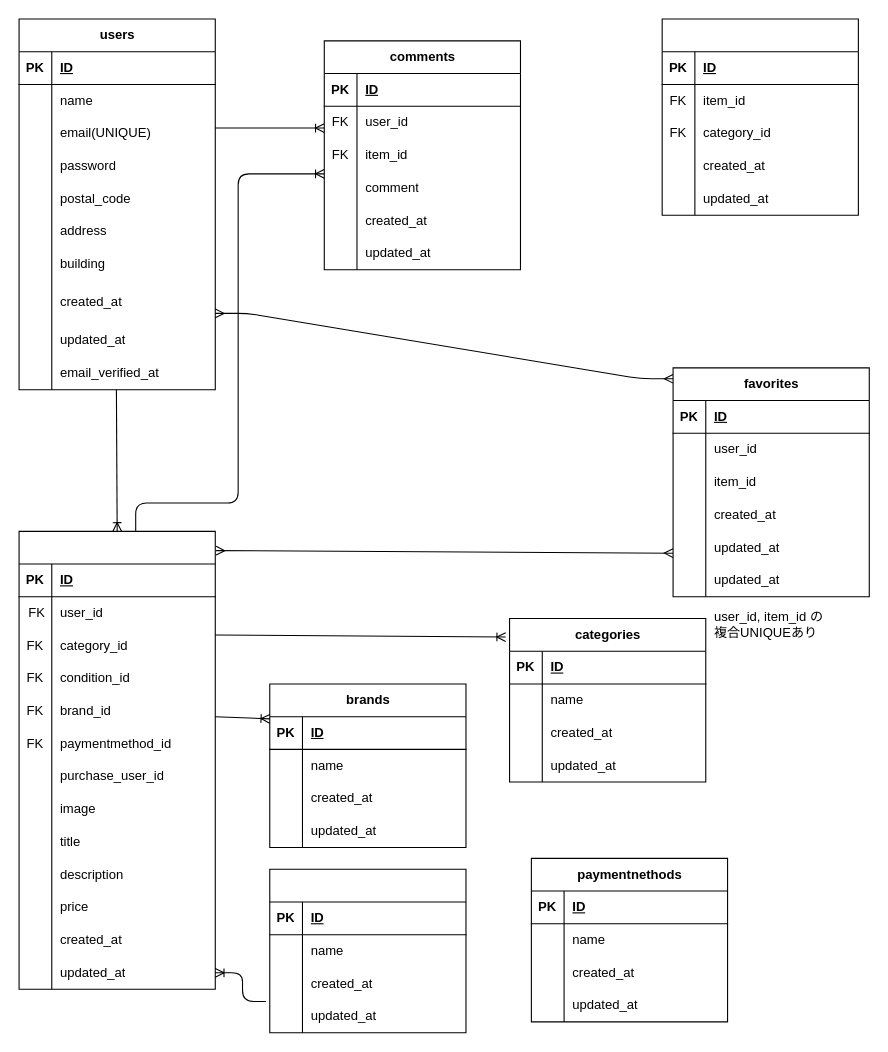
Image size: 888x1052. Some labels were removed from this diagram. The shapes that lost their labels are listed below. From the top down, each one's box as (x1, y1, x2, y2) in pixels, then its label:
(661, 18, 858, 215): item_categories
(18, 530, 215, 989): items
(269, 868, 466, 1033): conditions
